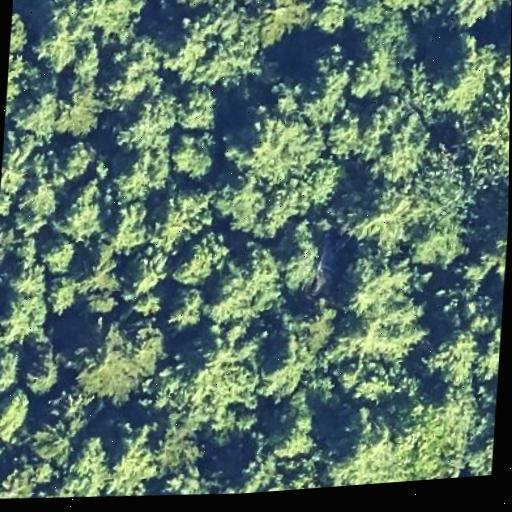tree-top: (320, 381, 468, 488), (322, 244, 425, 376), (331, 79, 443, 196), (153, 327, 260, 430), (60, 311, 172, 409), (223, 102, 326, 199), (159, 0, 262, 92), (271, 34, 365, 130), (205, 234, 289, 329), (400, 143, 478, 229), (340, 18, 414, 106), (115, 77, 190, 159), (0, 232, 51, 352), (422, 42, 499, 121), (338, 177, 417, 253), (459, 86, 510, 202), (222, 174, 306, 242), (26, 0, 84, 84), (169, 222, 236, 292), (103, 32, 167, 104), (249, 329, 307, 406), (107, 414, 160, 498), (402, 217, 470, 282), (53, 171, 113, 243), (421, 320, 484, 388), (145, 411, 203, 482), (114, 238, 174, 305), (263, 397, 322, 464), (109, 149, 173, 210), (5, 75, 59, 145), (69, 0, 150, 46), (53, 76, 110, 140), (0, 442, 60, 502), (275, 234, 325, 304), (246, 0, 317, 49), (12, 178, 65, 240), (70, 240, 124, 300), (16, 343, 66, 405), (173, 79, 226, 137), (169, 128, 220, 188), (0, 129, 48, 191), (165, 280, 212, 343), (29, 411, 76, 471), (46, 138, 102, 188), (62, 429, 115, 479), (0, 382, 34, 446), (38, 233, 80, 281), (445, 0, 512, 30), (473, 318, 502, 384), (365, 0, 445, 22), (311, 0, 356, 38), (0, 341, 28, 401), (462, 425, 494, 477), (165, 0, 245, 18), (9, 3, 35, 58), (47, 275, 76, 322)
